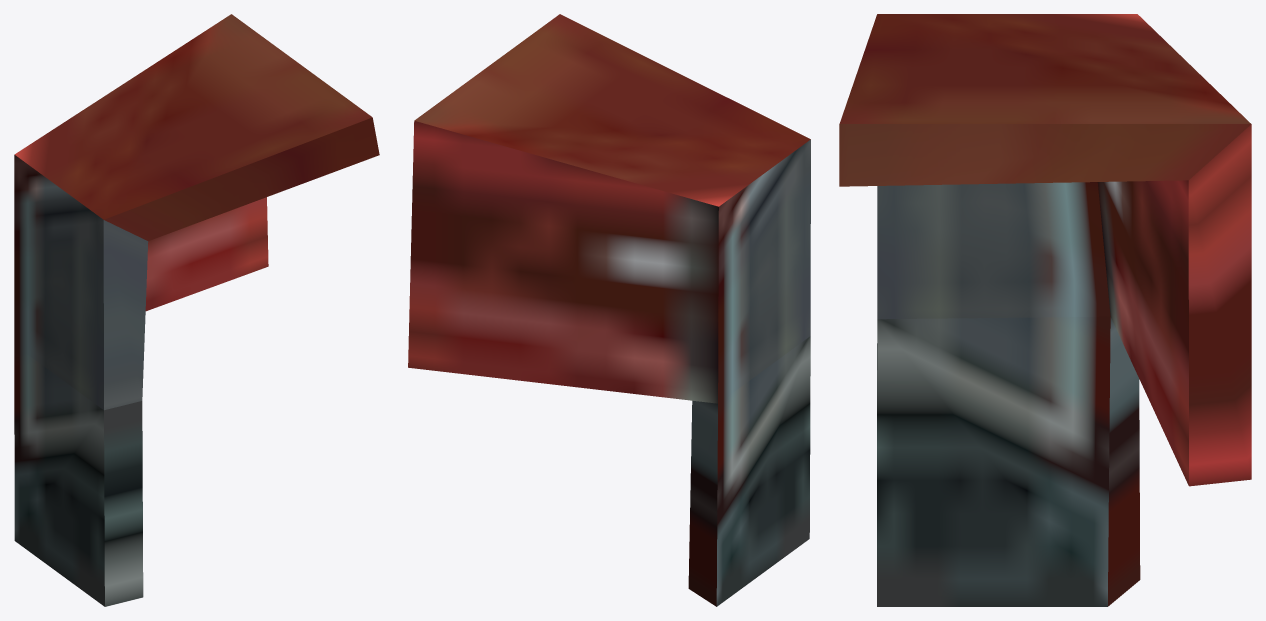
The model's file is Shared - Armor - Tanker Truck - Damage State 06 - CVTanker_d06.glb.
3 renders of one model, left to right at view 1: azimuth 30°, elevation 25°; view 2: azimuth 150°, elevation 25°; view 3: azimuth 270°, elevation 25°, orthographic. The views are drawn at different scales.
Visible parts, largest first — view 1: CVTANKER_D06; view 2: CVTANKER_D06; view 3: CVTANKER_D06.
Boxes of the visible parts, bbox=[...] form: CVTANKER_D06: bbox=[14, 14, 379, 606]; CVTANKER_D06: bbox=[408, 14, 810, 606]; CVTANKER_D06: bbox=[839, 14, 1251, 606].
Bounding box in the file's own units: 3.64 × 5.59 × 3.28.
Materials: 1 (1 with a texture image).
